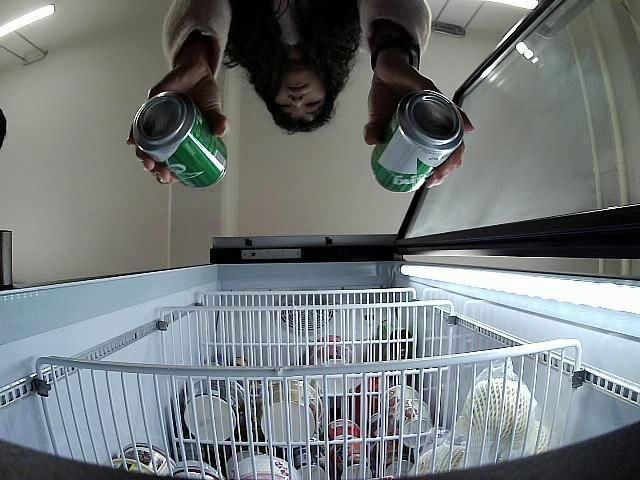12_chilsungCider: (371, 89, 463, 192), (134, 92, 229, 188)
